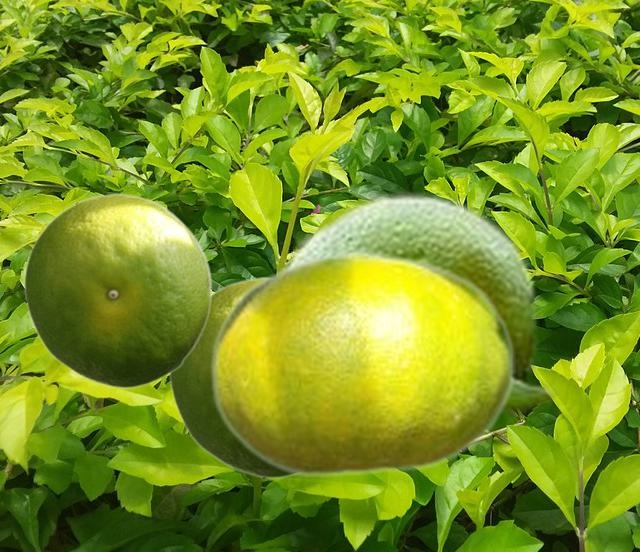dalandan: (209, 249, 514, 478), (276, 187, 559, 421), (23, 192, 211, 388), (168, 276, 292, 478)
